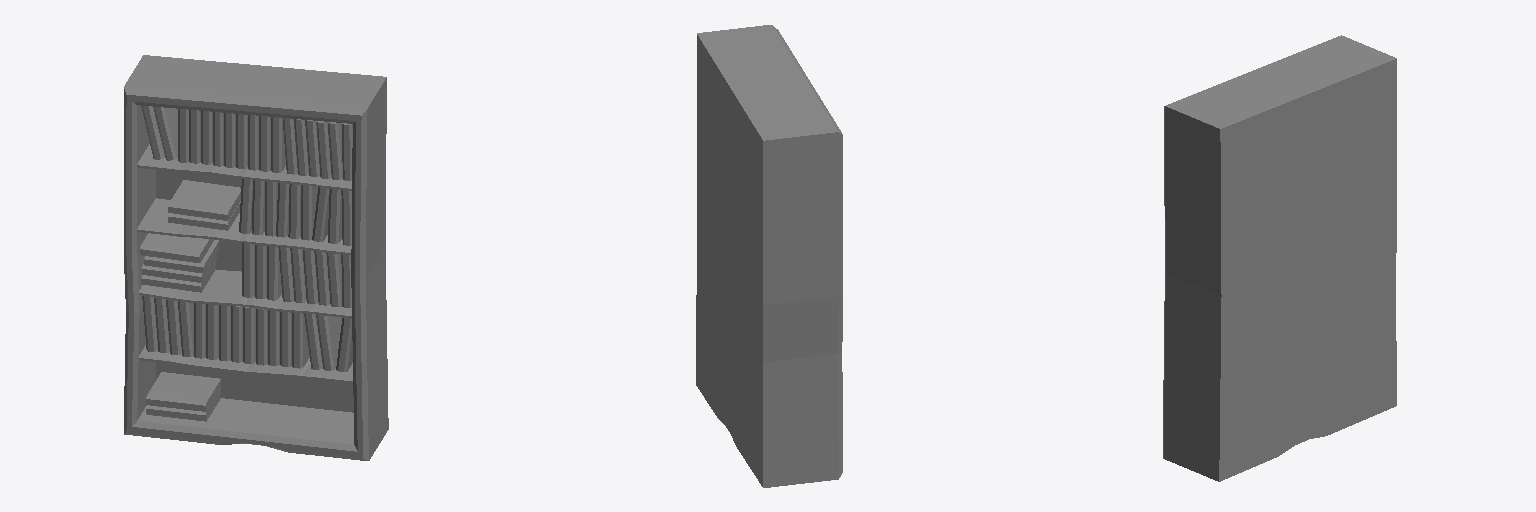
File: bookshelf.obj
3 renders of one model, left to right at view 1: azimuth 30°, elevation 25°; view 2: azimuth 150°, elevation 25°; view 3: azimuth 270°, elevation 25°, orthographic.
Parts seen in each view (by area): view 1: Shelf, Books; view 2: Shelf; view 3: Shelf.
Part boxes in pixels (bbox=[...]): Shelf: bbox=[124, 55, 388, 460]; Books: bbox=[140, 106, 352, 421]; Shelf: bbox=[696, 25, 842, 487]; Shelf: bbox=[1163, 35, 1396, 481].
Size of the model in its own units: 1.21 by 2 by 1.21.